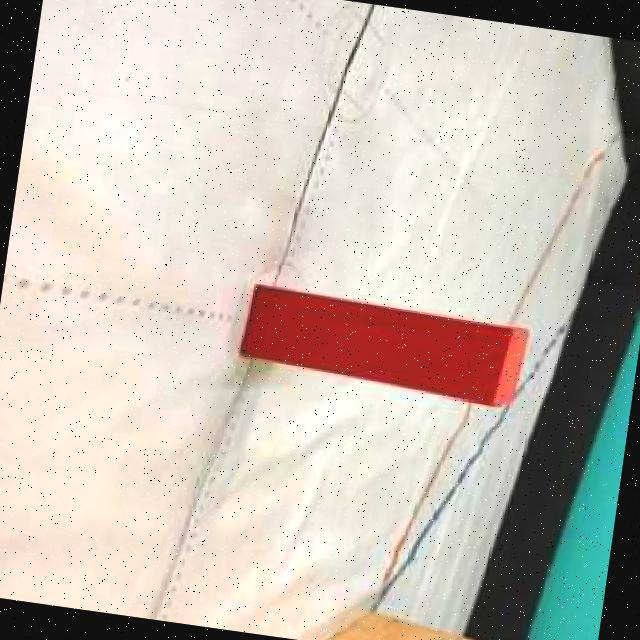redbox: (235, 284, 534, 412)
